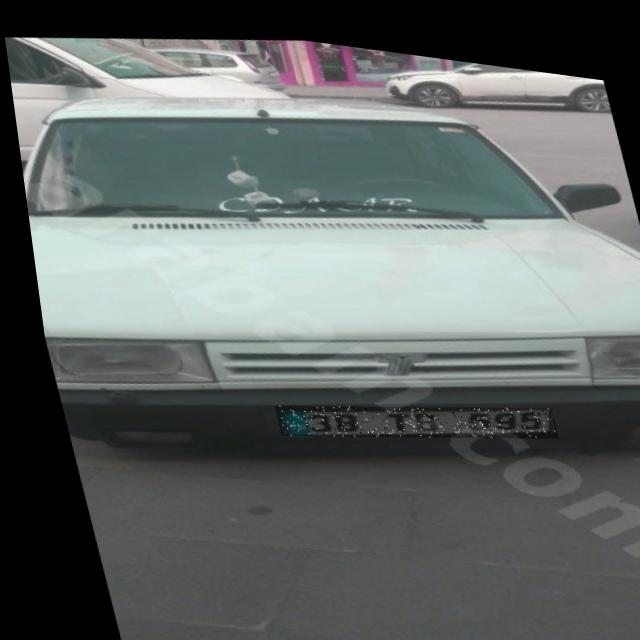license_plate: (260, 364, 553, 458)
